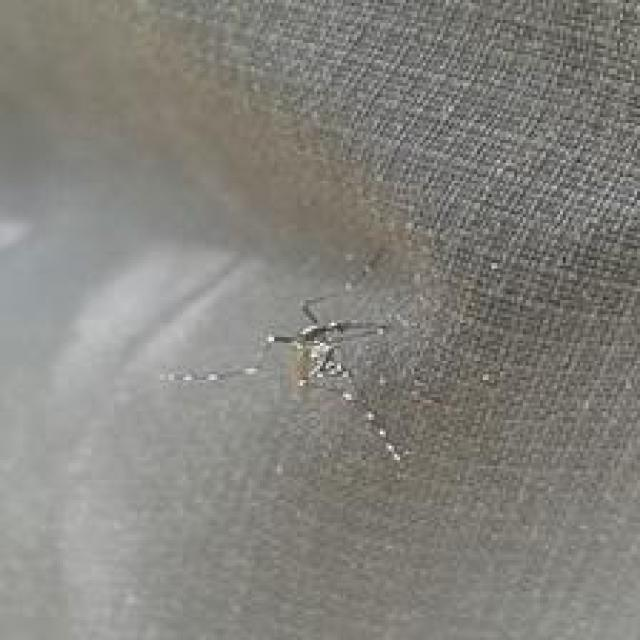Aedes albopictus: (158, 293, 413, 464)
